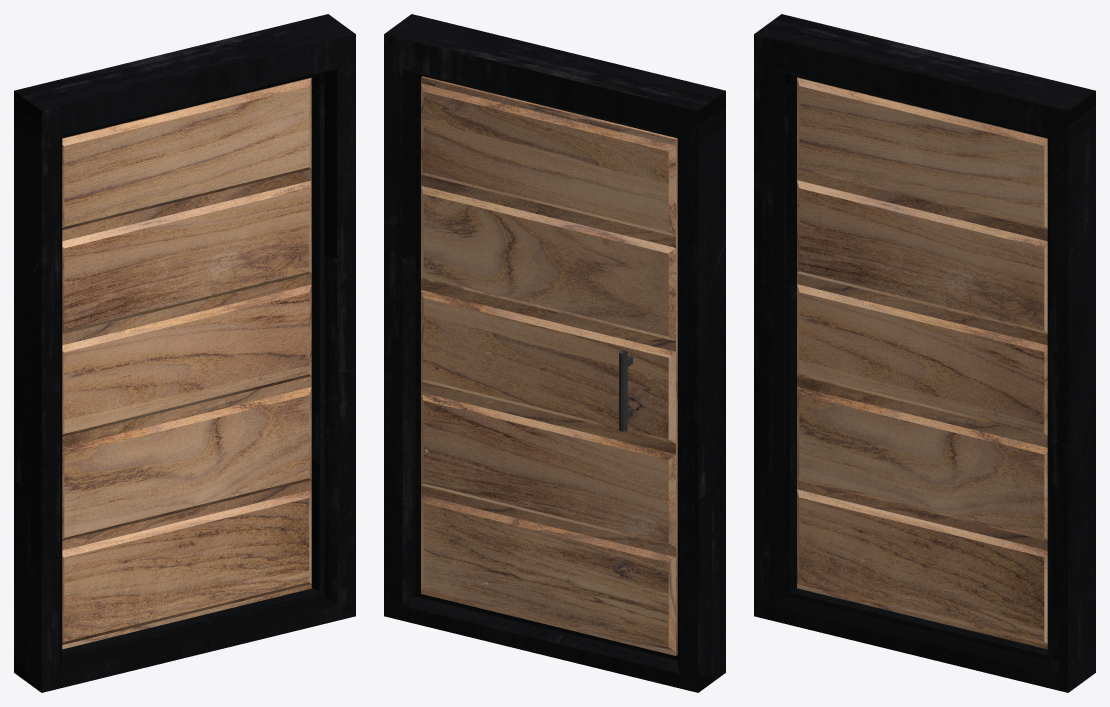
Rendered from porta.fbx.
3 views of the same model, side by side, from view 1: azimuth 30°, elevation 25°; view 2: azimuth 150°, elevation 25°; view 3: azimuth 330°, elevation 25° (orthographic).
Parts seen in each view (by area): view 1: door.002; view 2: door.002; view 3: door.002.
Part boxes in pixels (<box>): door.002: <box>14,14,355,692</box>; door.002: <box>384,14,725,692</box>; door.002: <box>754,14,1095,692</box>.
Size of the model in its own units: 125 by 221 by 22.89.
Materials: 3 (2 with a texture image).
